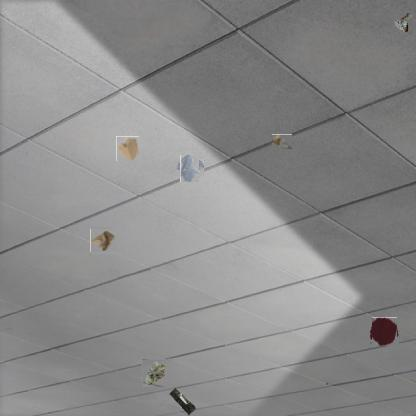dirty: (168, 387, 196, 415), (142, 359, 166, 387), (91, 228, 117, 253), (116, 136, 139, 161), (391, 12, 415, 34), (272, 134, 292, 149)
liquid: (371, 318, 398, 345), (178, 157, 202, 180)
